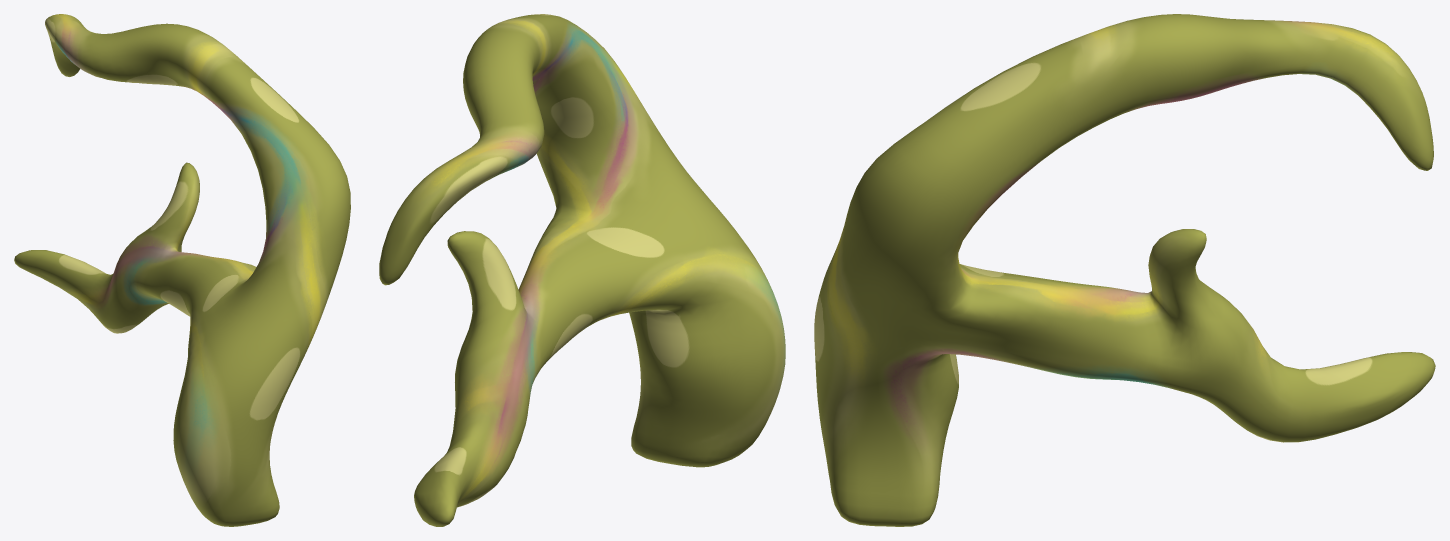
The model's file is BlockingBranchStar.fbx.
3 renders of one model, left to right at view 1: azimuth 30°, elevation 25°; view 2: azimuth 150°, elevation 25°; view 3: azimuth 270°, elevation 25°, orthographic. The views are drawn at different scales.
Parts seen in each view (by area): view 1: BlockingBranchStar; view 2: BlockingBranchStar; view 3: BlockingBranchStar.
Boxes of the visible parts, box(x1,y1,x2,y2) form: BlockingBranchStar: box(14, 14, 350, 526); BlockingBranchStar: box(379, 14, 785, 526); BlockingBranchStar: box(814, 14, 1435, 526).
Size of the model in its own units: 196 by 404 by 434.
Materials: 1 (1 with a texture image).
